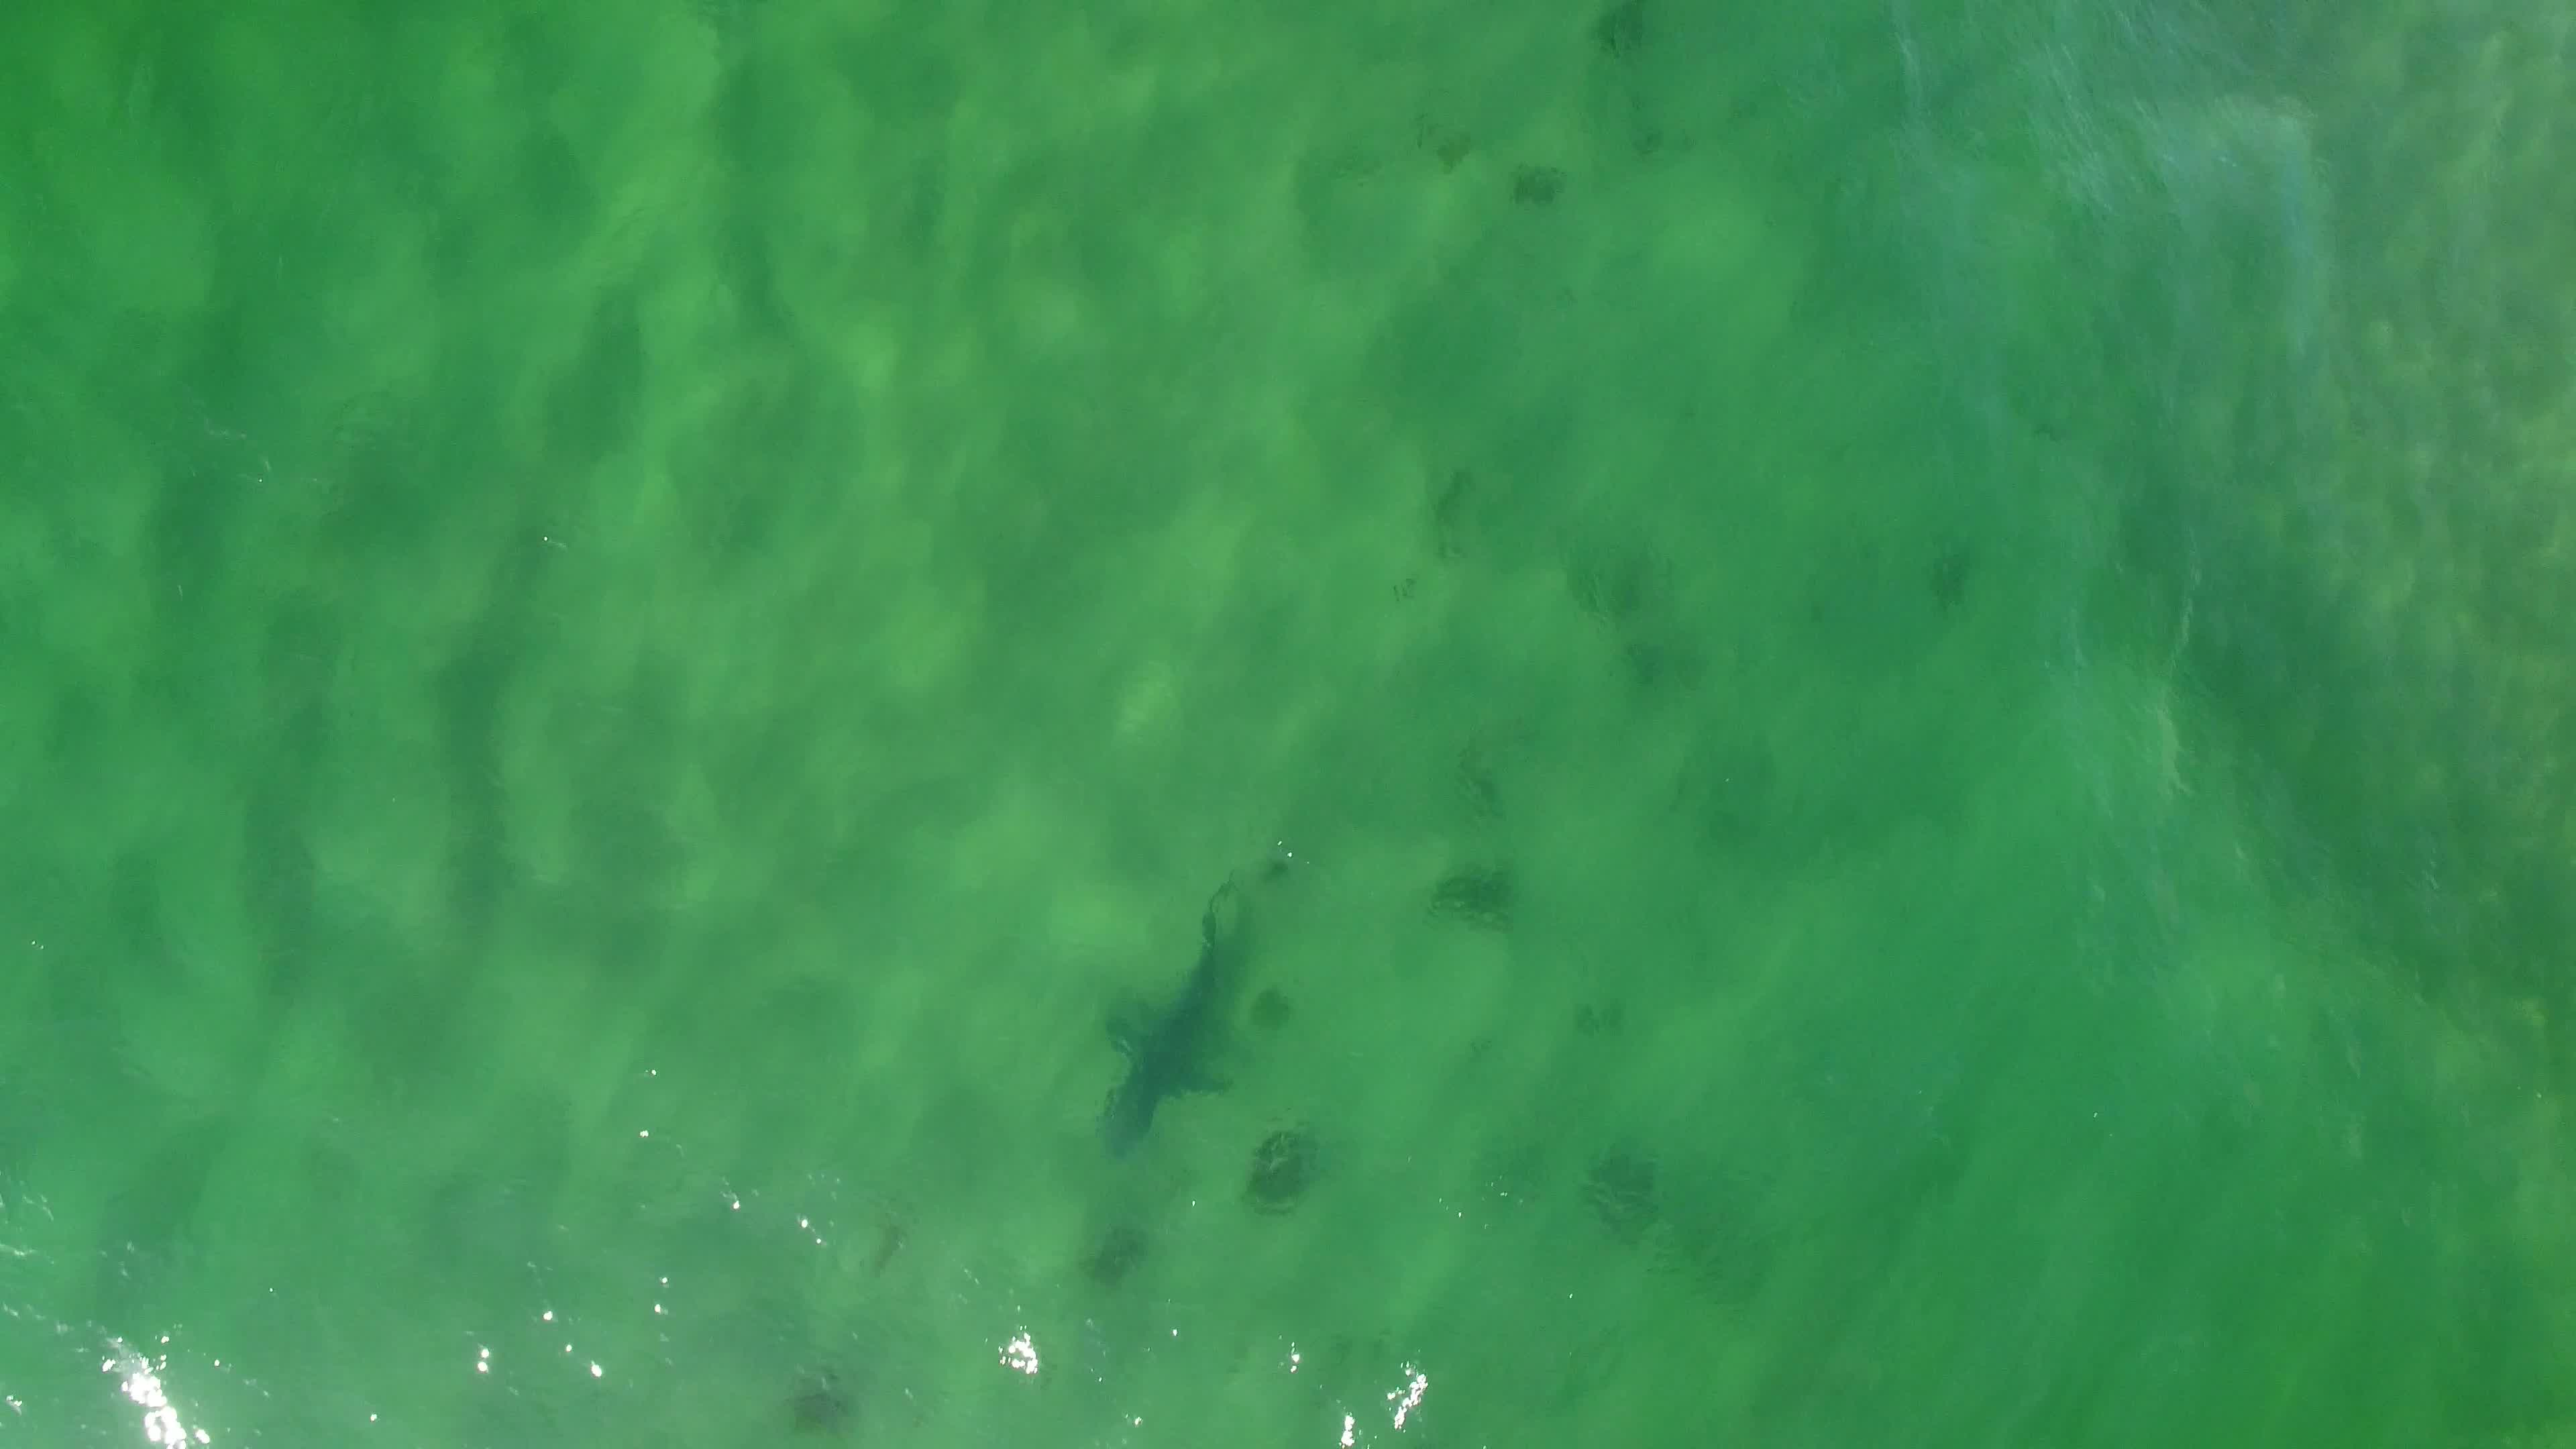shark: (1086, 872, 1242, 1159)
